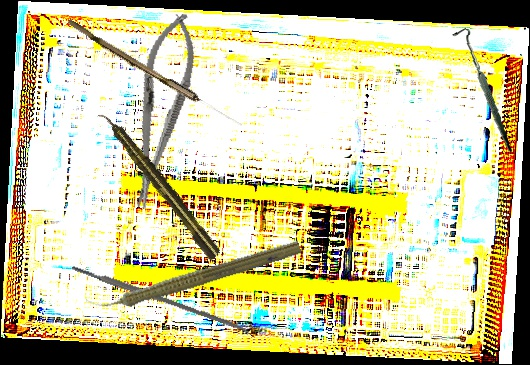Handpiece: (96, 106, 223, 262), (85, 232, 303, 322)
Hook Surgical: (439, 26, 526, 153)
Needle Holder: (115, 8, 206, 213)
Scalpel Handle: (71, 262, 247, 334)
Surgical Spoon: (65, 19, 245, 129)
